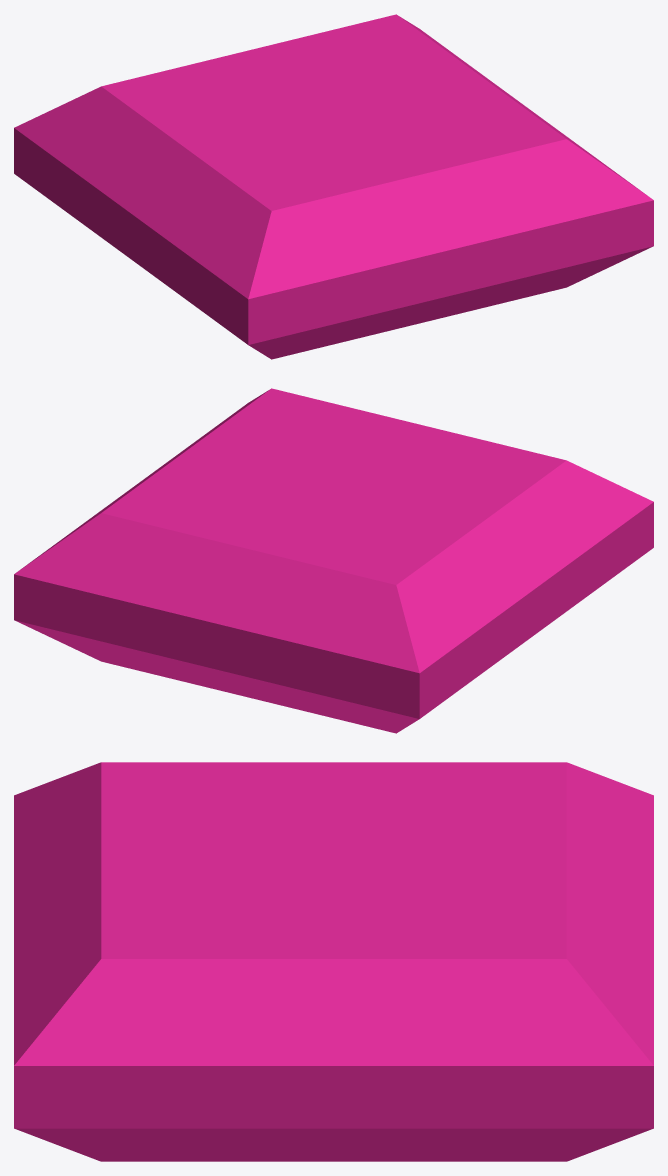
The model's file is Punkt1.fbx.
The picture shows the model from 3 angles, top to bottom: view 1: azimuth 30°, elevation 25°; view 2: azimuth 150°, elevation 25°; view 3: azimuth 270°, elevation 25°; orthographic projection. The views are drawn at different scales.
Parts seen in each view (by area): view 1: Plane; view 2: Plane; view 3: Plane.
Boxes of the visible parts, bbox=[...] form: Plane: bbox=[14, 14, 653, 359]; Plane: bbox=[14, 388, 653, 733]; Plane: bbox=[14, 762, 653, 1161].
Size of the model in its own units: 200 by 69.95 by 200.
